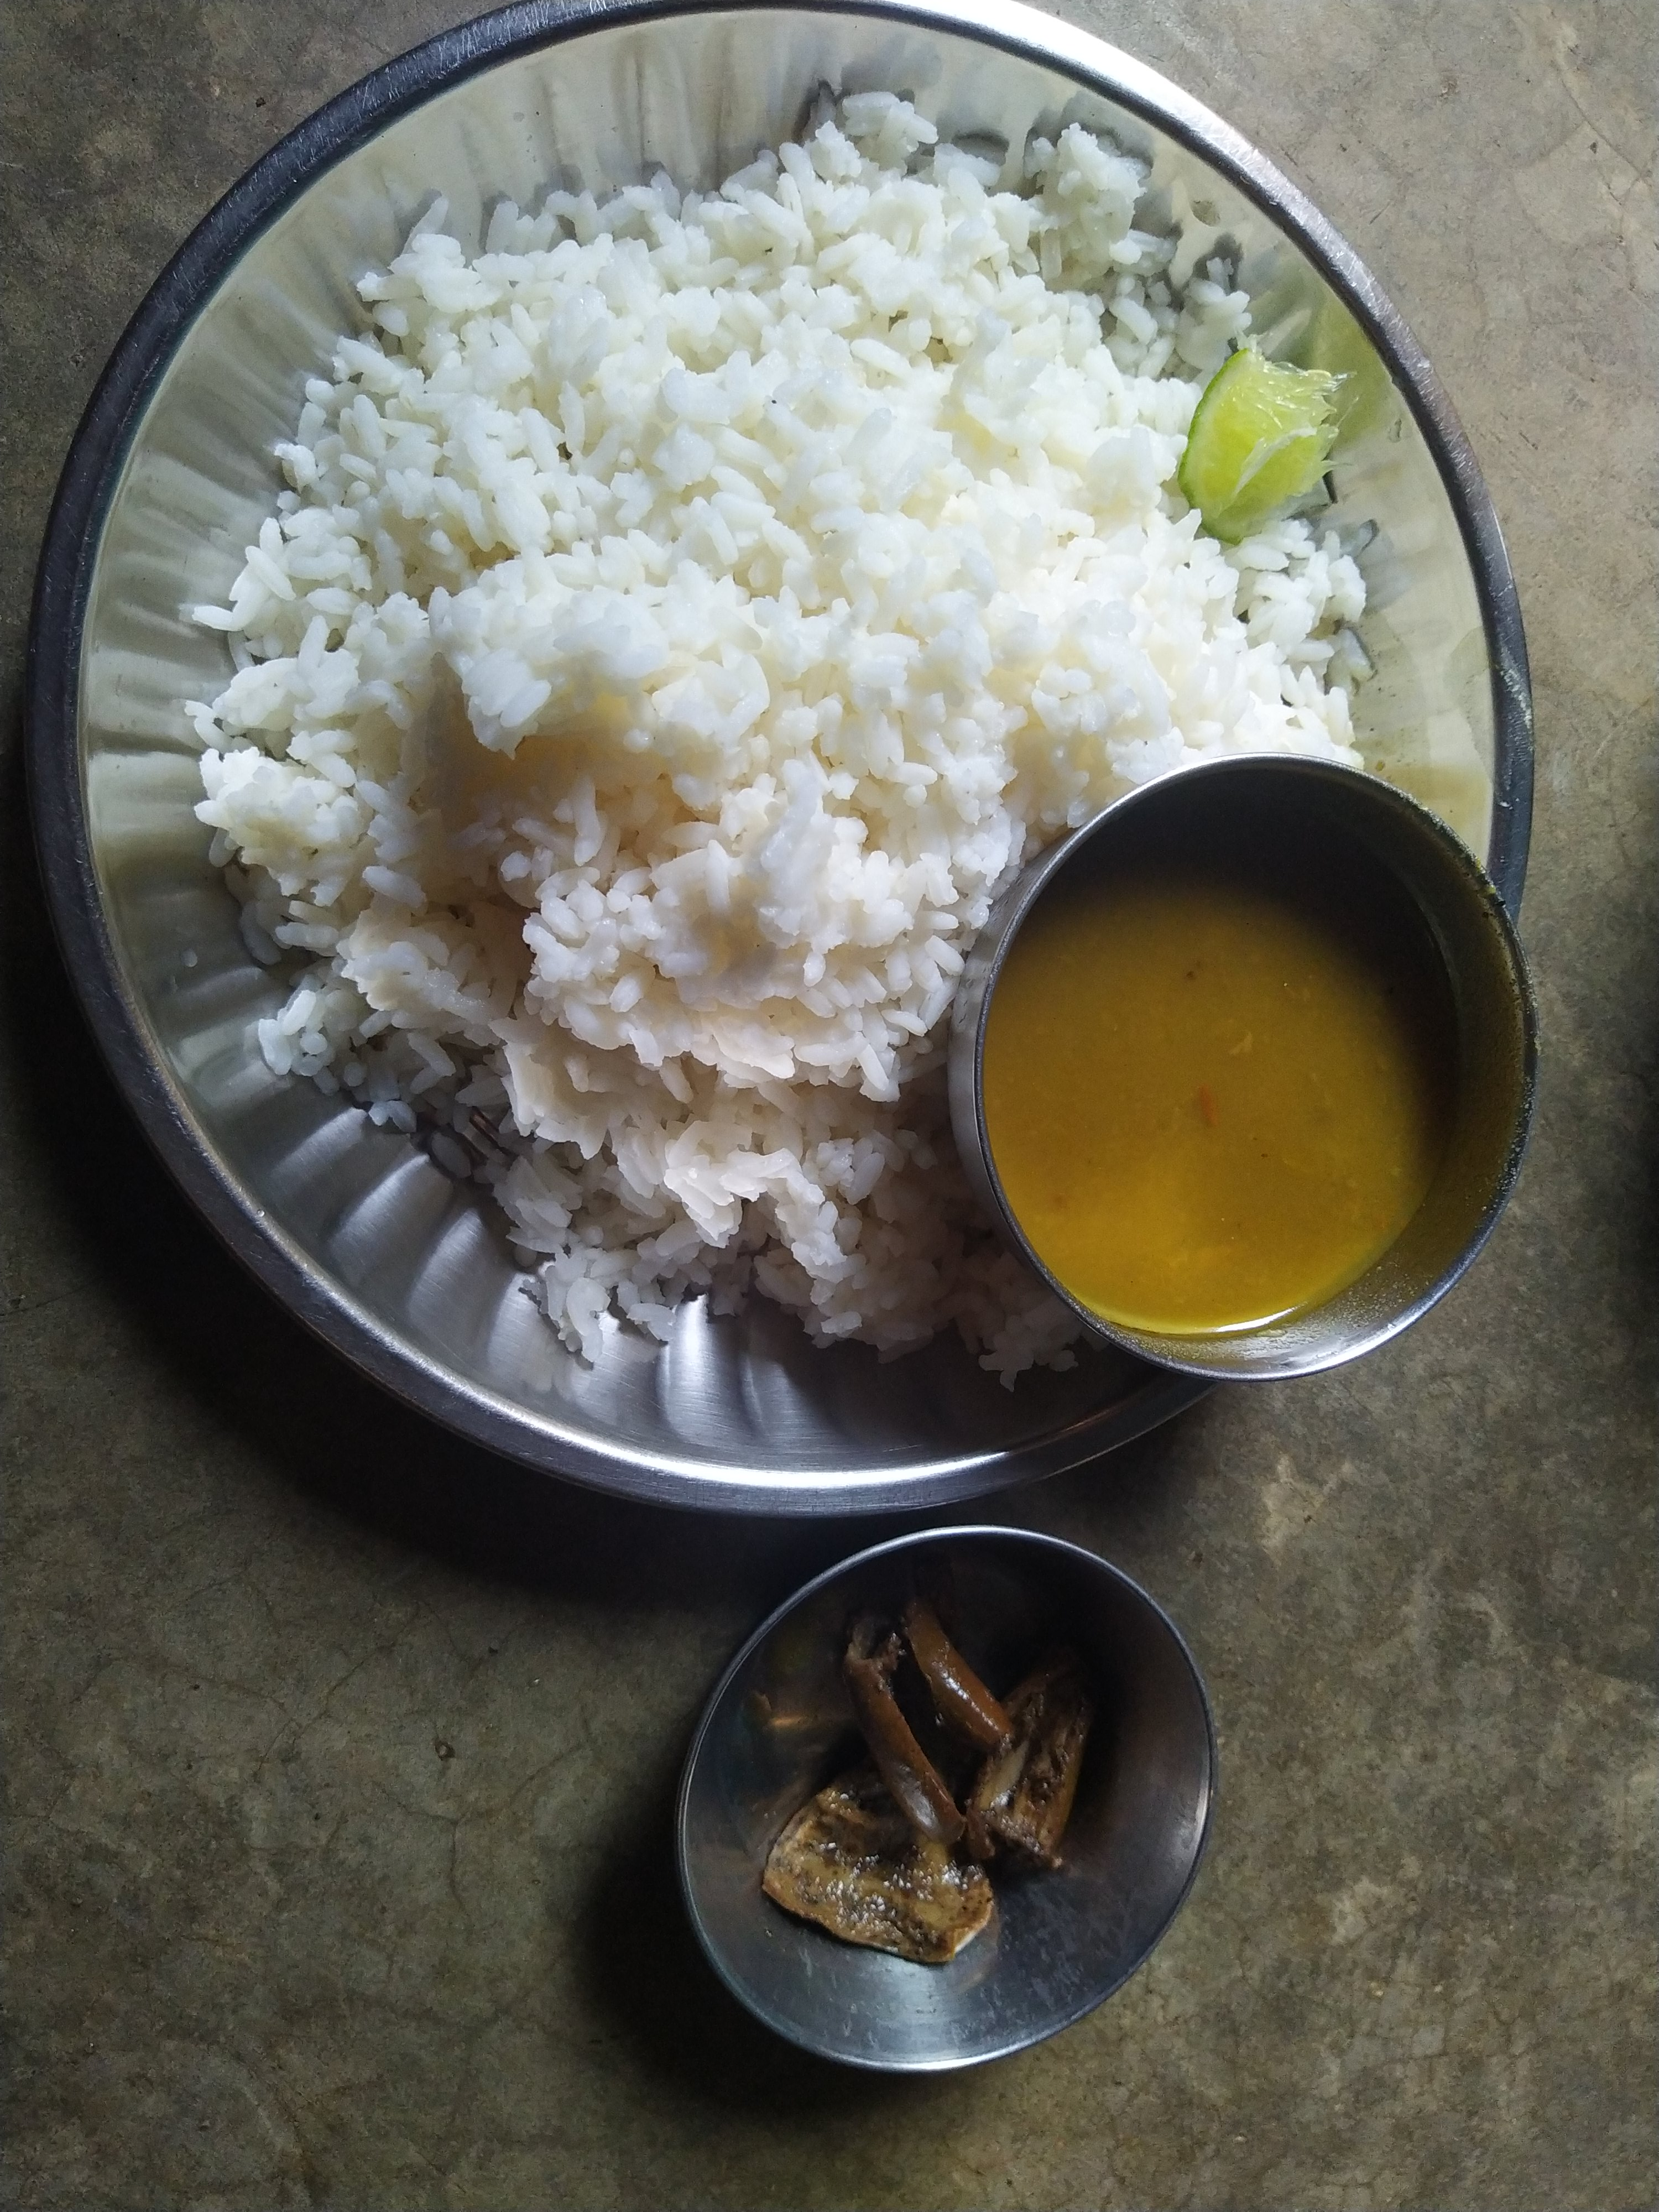food: (185, 66, 1549, 1406), (751, 1601, 1112, 1975)
